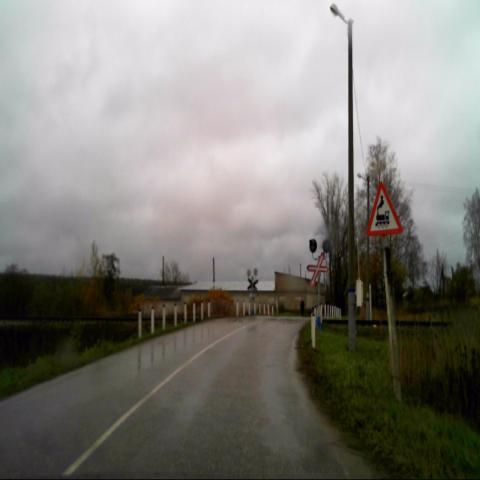1_2: (367, 181, 402, 236)
